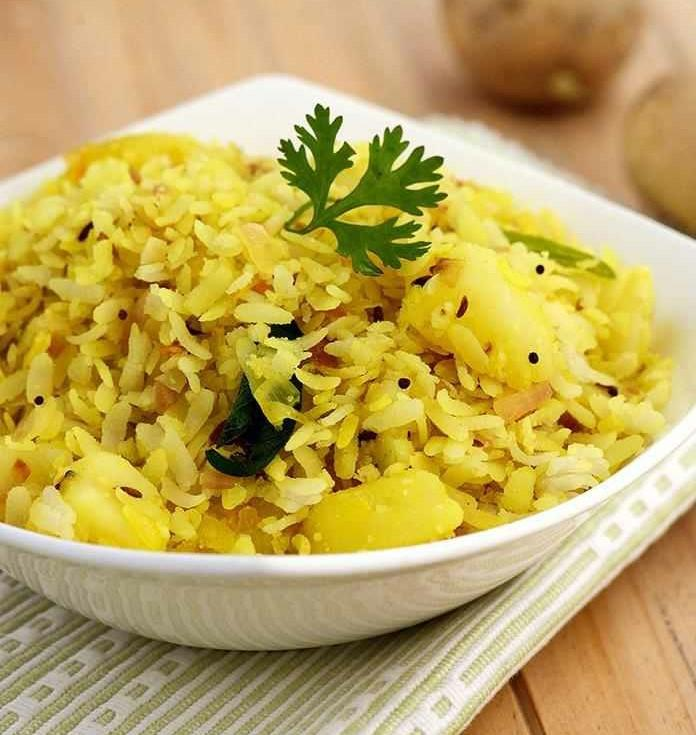Poha: (0, 102, 672, 555)
